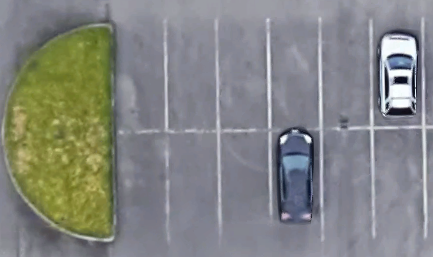Occupied: (270, 130, 322, 240), (371, 21, 424, 128)
Vacant: (372, 128, 427, 239), (215, 20, 269, 130), (113, 131, 168, 239), (165, 20, 218, 131), (320, 129, 373, 240), (113, 21, 166, 131), (268, 20, 321, 129), (319, 20, 372, 129), (167, 130, 220, 239), (219, 131, 270, 239)
